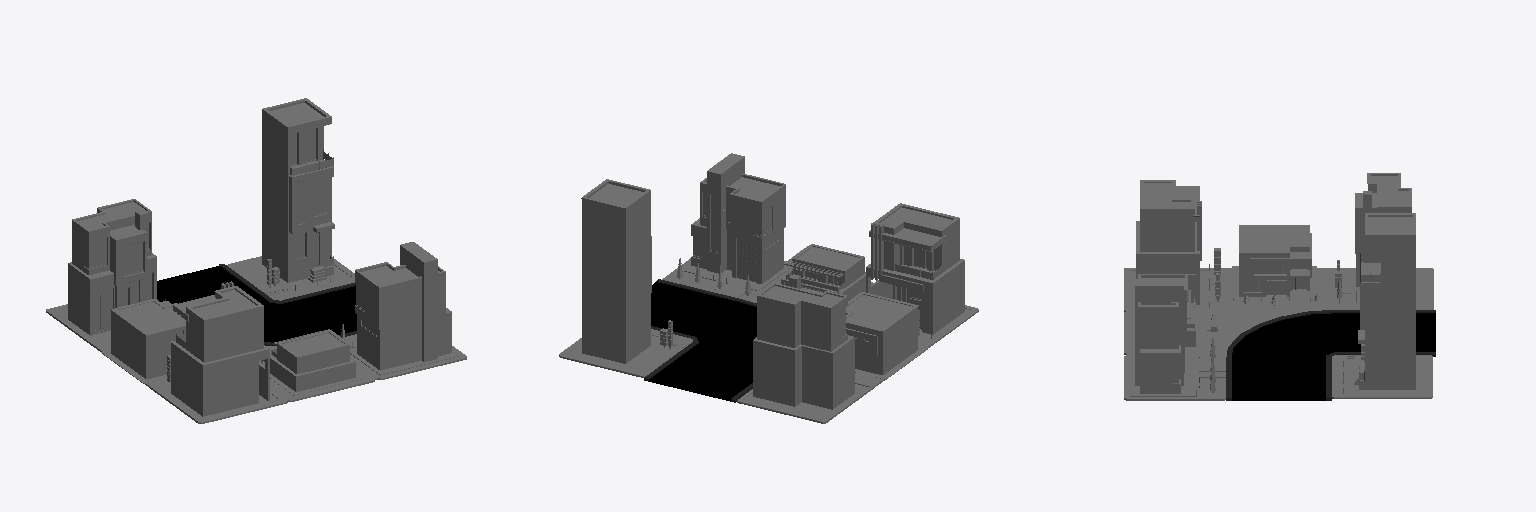
The model's file is road3.obj.
The picture shows the model from 3 angles: view 1: azimuth 30°, elevation 25°; view 2: azimuth 150°, elevation 25°; view 3: azimuth 270°, elevation 25°; orthographic projection.
Parts seen in each view (by area): view 1: Box437_Mesh_164, 90__Road_Curve_Left_Right001, Box345_Mesh_313, Box335_Mesh_309, Box524_Mesh_122, Line003_Mesh_356, Line017_Mesh_194, Box523_Mesh_121, Box522_Mesh_120, Object093_Mesh_304, Object141_Mesh_171, Object065_Mesh_355 (+17 smaller); view 2: Box437_Mesh_164, 90__Road_Curve_Left_Right001, Line017_Mesh_194, Box422_Mesh_187, Box345_Mesh_313, Line003_Mesh_356, Box523_Mesh_121, Box524_Mesh_122, Object065_Mesh_355, Box335_Mesh_309, Rectangle007_Mesh_175, Object100_Mesh_311 (+18 smaller); view 3: 90__Road_Curve_Left_Right001, Box437_Mesh_164, Box335_Mesh_309, Object065_Mesh_355, Box523_Mesh_121, Object276_Mesh_119, Box522_Mesh_120, Box345_Mesh_313, Rectangle007_Mesh_175, Object122_Mesh_199, Line020_Mesh_128, Object100_Mesh_311 (+17 smaller).
Part boxes in pixels (bbox=[...]): Box437_Mesh_164: bbox=[262, 110, 331, 282]; 90__Road_Curve_Left_Right001: bbox=[157, 269, 356, 345]; Box345_Mesh_313: bbox=[171, 341, 269, 416]; Box335_Mesh_309: bbox=[186, 293, 263, 362]; Box524_Mesh_122: bbox=[355, 271, 445, 329]; Line003_Mesh_356: bbox=[111, 311, 185, 378]; Line017_Mesh_194: bbox=[68, 253, 156, 335]; Box523_Mesh_121: bbox=[400, 242, 437, 361]; Box522_Mesh_120: bbox=[380, 308, 451, 370]; Object093_Mesh_304: bbox=[214, 361, 258, 413]; Object141_Mesh_171: bbox=[290, 128, 332, 266]; Object065_Mesh_355: bbox=[110, 299, 185, 335]; Box437_Mesh_164: bbox=[582, 191, 650, 363]; 90__Road_Curve_Left_Right001: bbox=[651, 282, 756, 395]; Line017_Mesh_194: bbox=[753, 335, 854, 409]; Box422_Mesh_187: bbox=[757, 296, 847, 351]; Box345_Mesh_313: bbox=[866, 259, 964, 334]; Line003_Mesh_356: bbox=[846, 307, 917, 374]; Box523_Mesh_121: bbox=[707, 153, 744, 273]; Box524_Mesh_122: bbox=[730, 185, 785, 244]; Object065_Mesh_355: bbox=[846, 292, 918, 331]; Box335_Mesh_309: bbox=[884, 219, 959, 272]; Rectangle007_Mesh_175: bbox=[559, 329, 692, 377]; Object100_Mesh_311: bbox=[874, 203, 959, 231]; 90__Road_Curve_Left_Right001: bbox=[1226, 310, 1422, 393]; Box437_Mesh_164: bbox=[1365, 235, 1415, 389]; Box335_Mesh_309: bbox=[1140, 210, 1194, 251]; Object065_Mesh_355: bbox=[1239, 225, 1309, 253]; Box523_Mesh_121: bbox=[1135, 279, 1183, 385]; Object276_Mesh_119: bbox=[1138, 307, 1178, 348]; Box522_Mesh_120: bbox=[1140, 345, 1180, 393]; Box345_Mesh_313: bbox=[1136, 221, 1199, 304]; Rectangle007_Mesh_175: bbox=[1332, 355, 1432, 398]; Object122_Mesh_199: bbox=[1355, 173, 1411, 208]; Line020_Mesh_128: bbox=[1130, 357, 1225, 396]; Object100_Mesh_311: bbox=[1140, 180, 1194, 209].
Size of the model in its own units: 20.19 by 11.22 by 20.06.